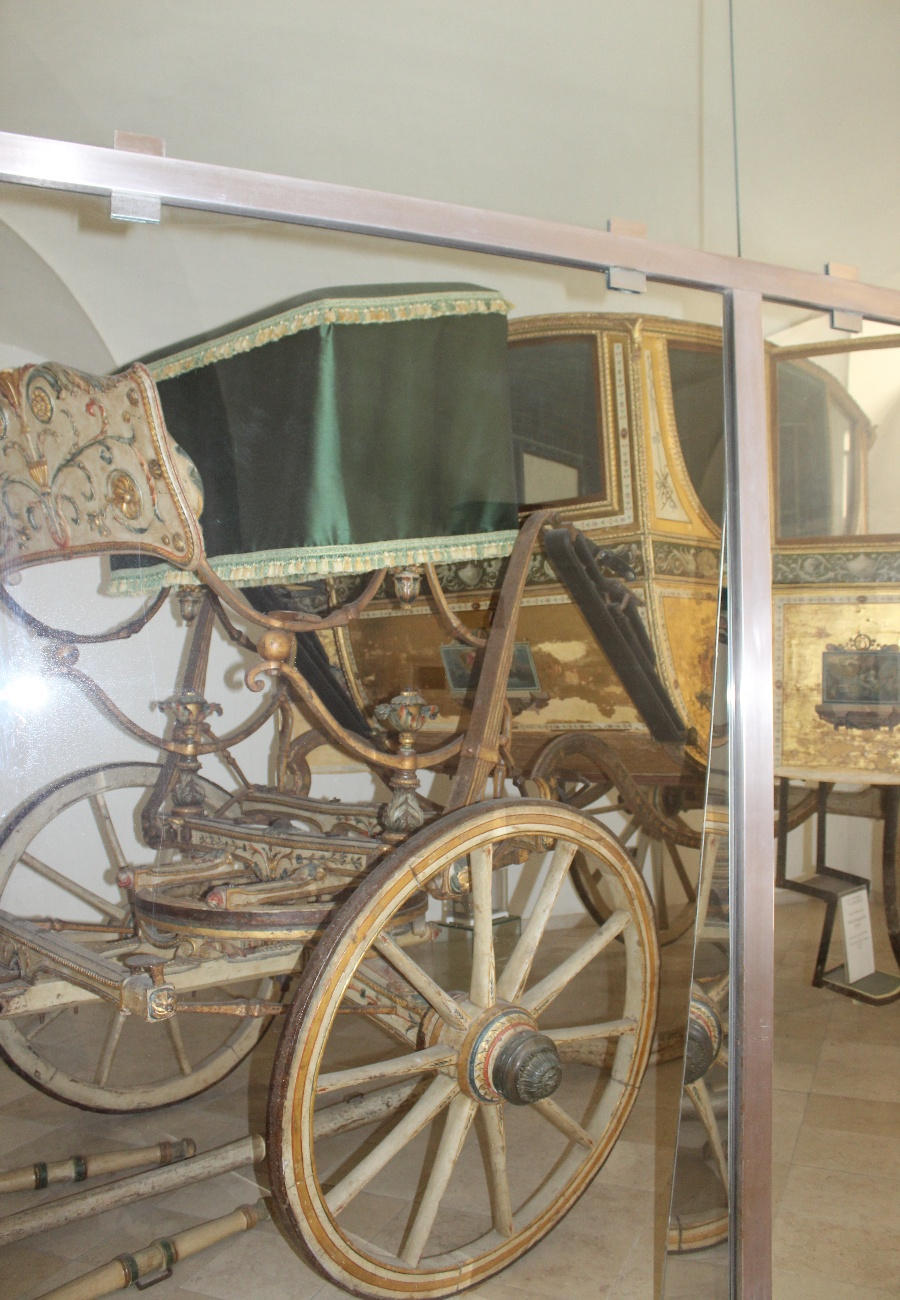Berlina Mosca: (3, 288, 900, 1294)
